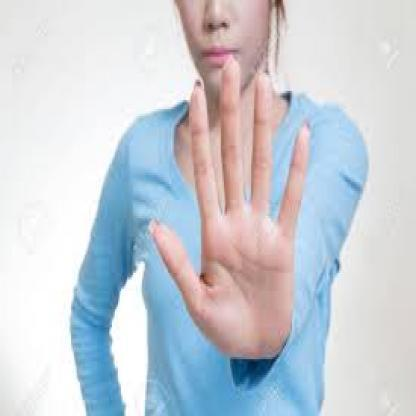stop: (143, 51, 312, 362)
